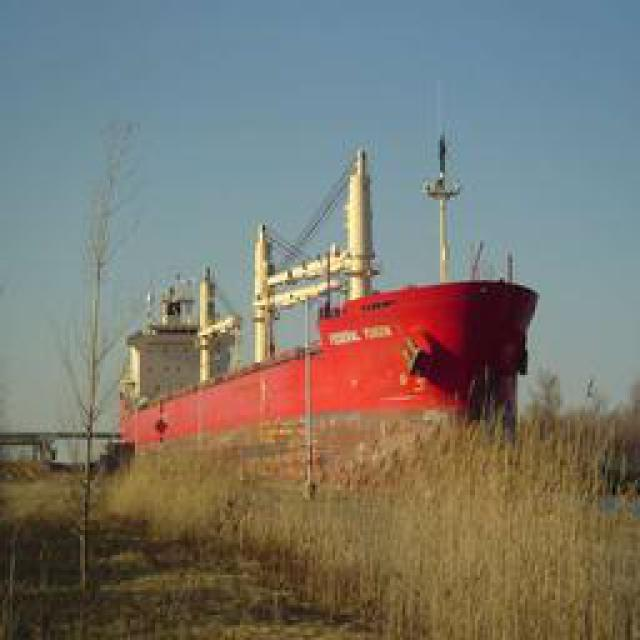Ship: (90, 132, 553, 502)
